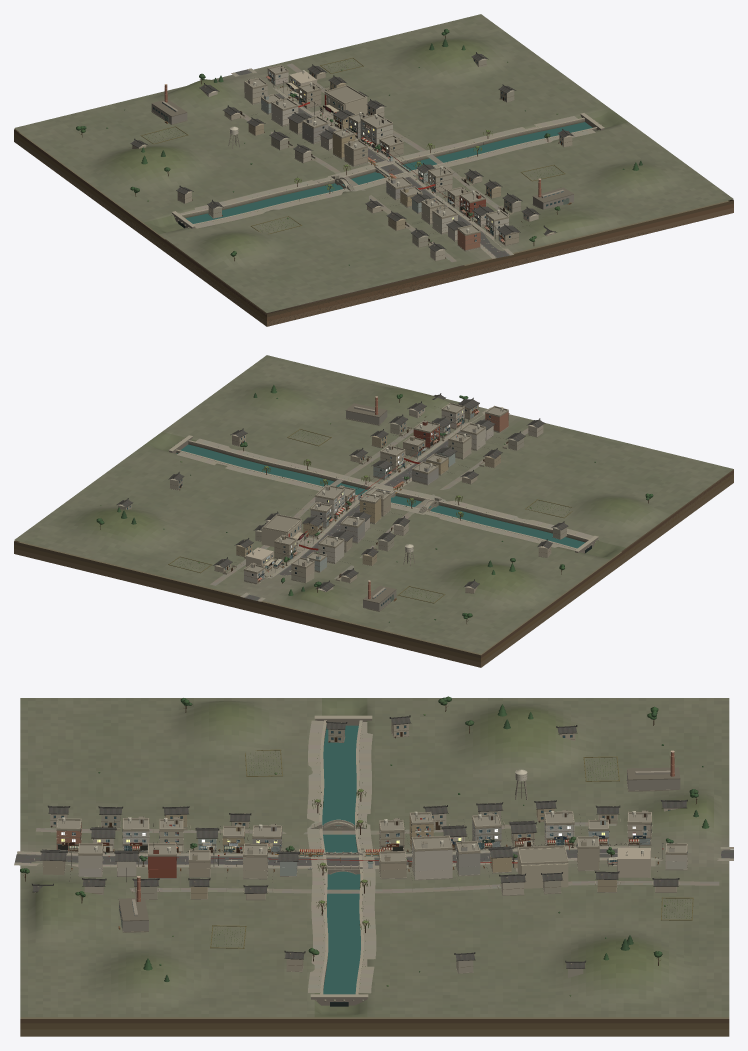
The model's file is town_old.glb.
The picture shows the model from 3 angles, top to bottom: view 1: azimuth 30°, elevation 25°; view 2: azimuth 150°, elevation 25°; view 3: azimuth 270°, elevation 25°; orthographic projection. The views are drawn at different scales.
Visible parts, largest first — view 1: Town_Matte, Town_Rough, Town_Stone, Water_Canal, Town_Metal; view 2: Town_Matte, Town_Rough, Town_Stone, Water_Canal, Town_Metal; view 3: Town_Matte, Town_Rough, Town_Stone, Water_Canal, Town_Metal, Town_GlassDark.
Part boxes in pixels (bbox=[...]): Town_Matte: bbox=[14, 14, 733, 326]; Town_Rough: bbox=[140, 57, 595, 262]; Town_Stone: bbox=[151, 65, 604, 261]; Water_Canal: bbox=[186, 122, 592, 223]; Town_Metal: bbox=[153, 67, 569, 242]; Town_Matte: bbox=[14, 355, 733, 667]; Town_Rough: bbox=[168, 397, 593, 603]; Town_Stone: bbox=[168, 396, 598, 611]; Water_Canal: bbox=[176, 444, 585, 548]; Town_Metal: bbox=[252, 405, 503, 604]; Town_Matte: bbox=[20, 696, 729, 1036]; Town_Rough: bbox=[14, 720, 733, 993]; Town_Stone: bbox=[50, 715, 687, 1005]; Water_Canal: bbox=[322, 725, 360, 994]; Town_Metal: bbox=[57, 769, 687, 927]; Town_GlassDark: bbox=[53, 725, 670, 920].
Bounding box in the file's own units: 320 × 26.13 × 305.
Materials: 14 (1 with a texture image).
